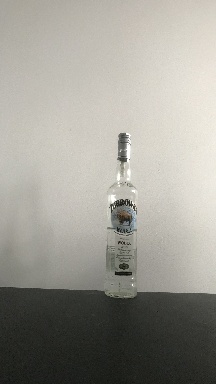butelka: (103, 128, 138, 301)
